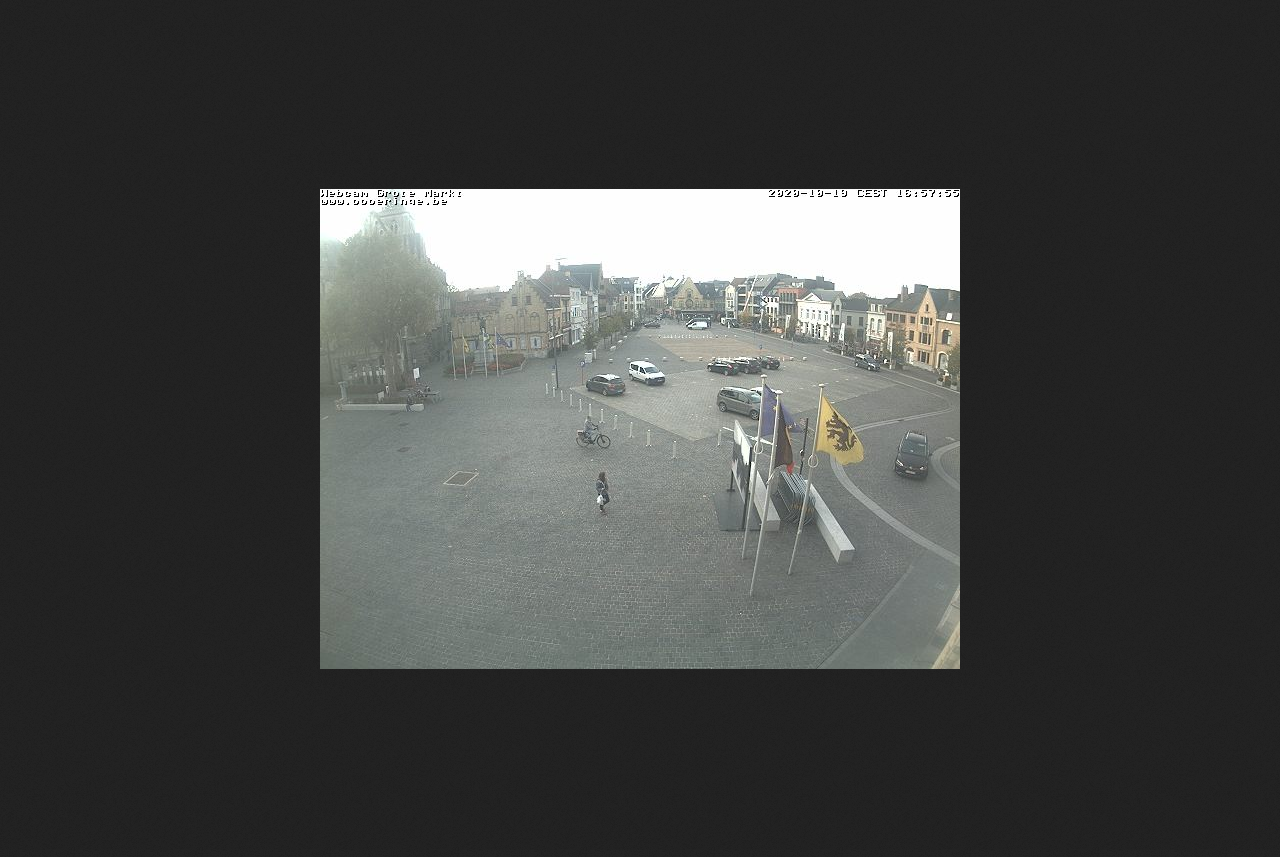no: (818, 397, 867, 470)
